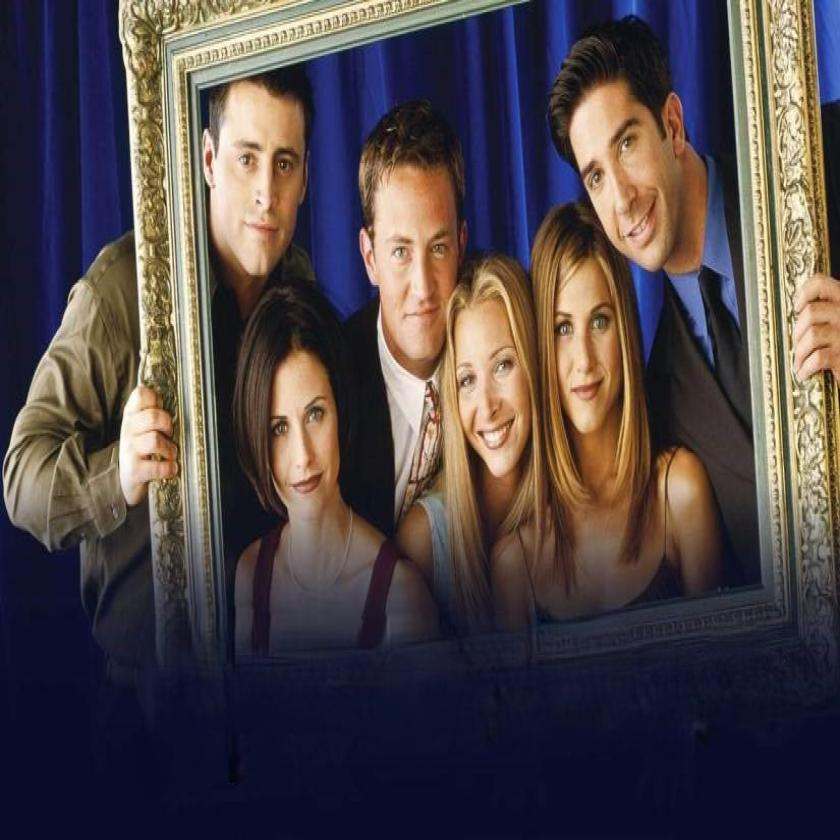Sin_casco: (555, 32, 683, 279), (355, 90, 473, 352), (526, 202, 643, 454), (203, 57, 318, 282), (440, 242, 544, 490), (234, 290, 342, 528)
